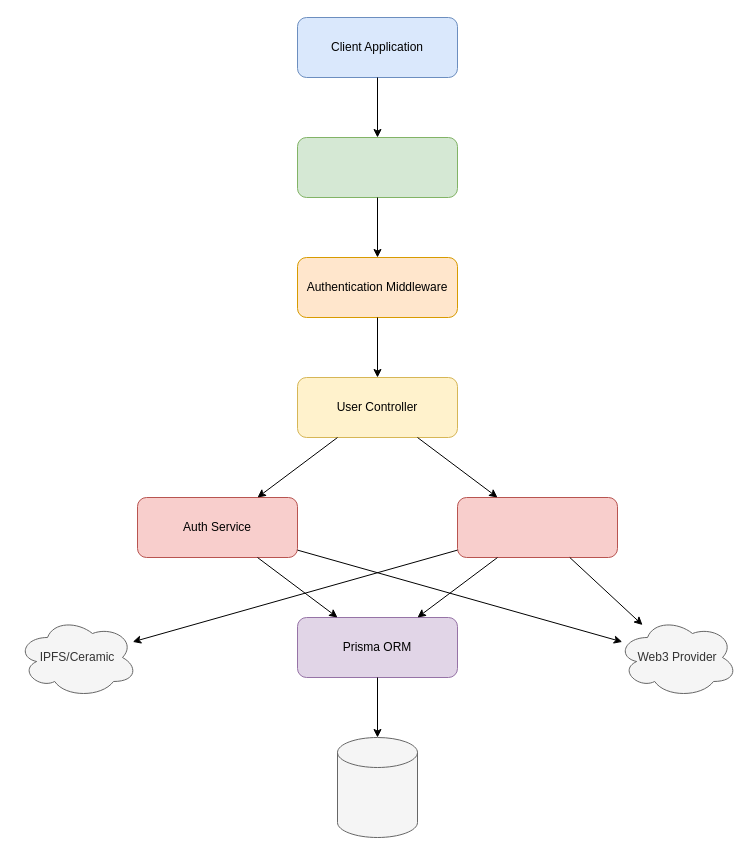
This 755x855 diagram has some shape labels left out. Here are the shapes that lost their labels. From the top down, the centre of each, then its label:
At point (377, 167): "API Layer".
At point (537, 527): "User Service".
At point (377, 787): "PostgreSQL Database".
